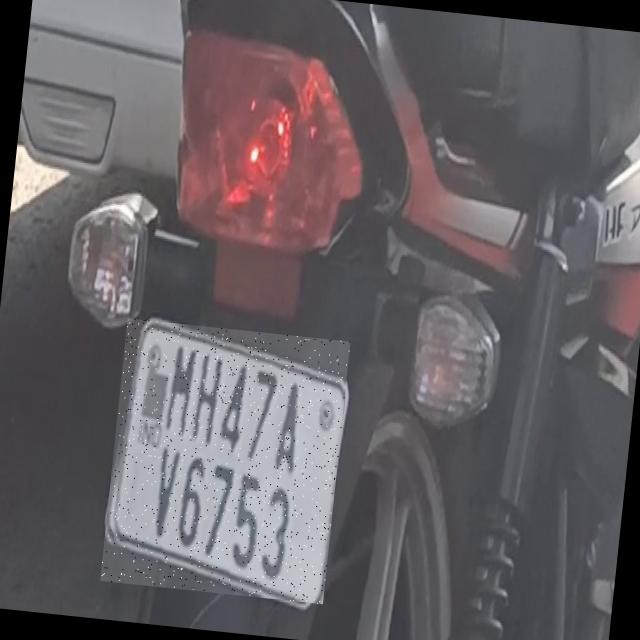Plate: (101, 319, 351, 605)
